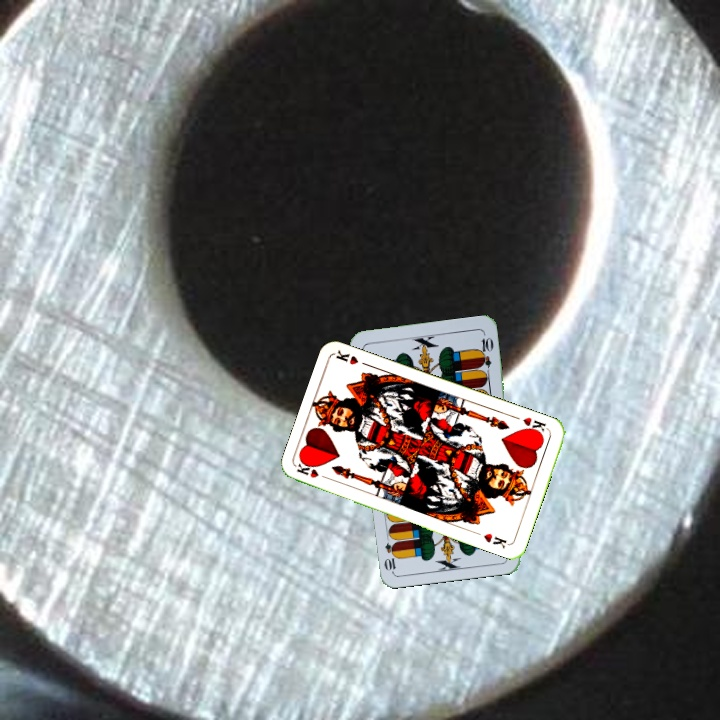HK: (293, 459, 333, 483), (519, 413, 551, 438)
